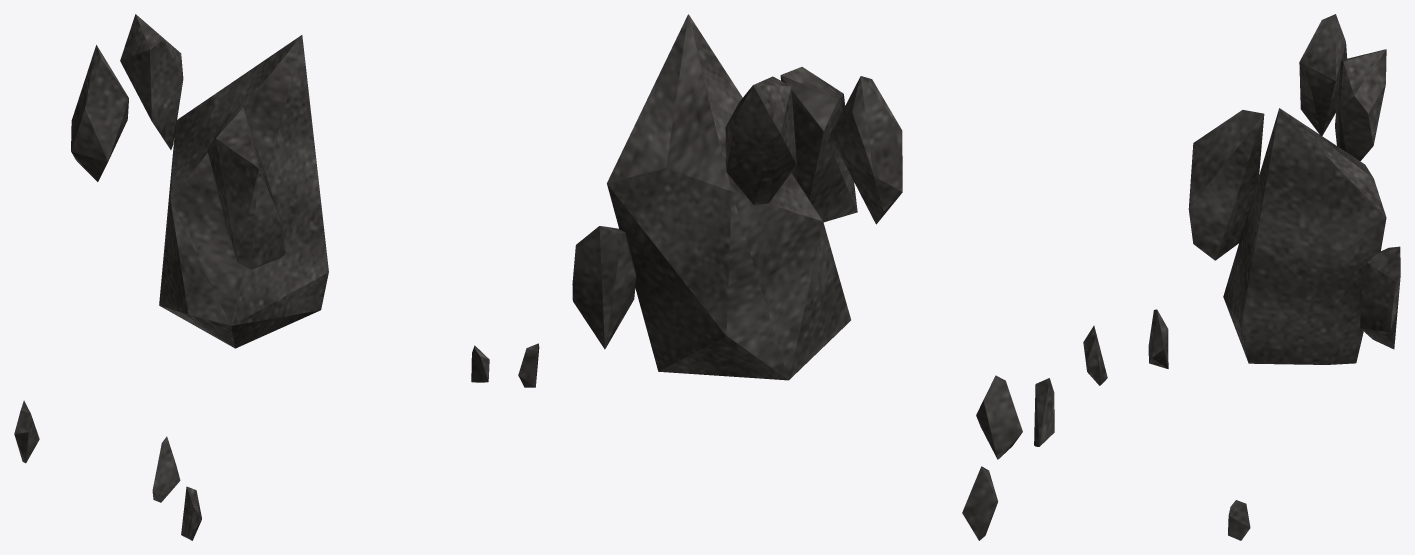
The model's file is boulder_0.glb.
The picture shows the model from 3 angles, left to right: view 1: azimuth 30°, elevation 25°; view 2: azimuth 150°, elevation 25°; view 3: azimuth 270°, elevation 25°; orthographic projection. The views are drawn at different scales.
Visible parts, largest first — view 1: boulder_0_c0; view 2: boulder_0_c0; view 3: boulder_0_c0.
Boxes of the visible parts, x1,y1,x2,y2 form: boulder_0_c0: (14,14,489,540); boulder_0_c0: (518,14,1054,540); boulder_0_c0: (1083,14,1400,540).
Size of the model in its own units: 1.83 by 1.6 by 1.19.
Materials: 1 (1 with a texture image).
